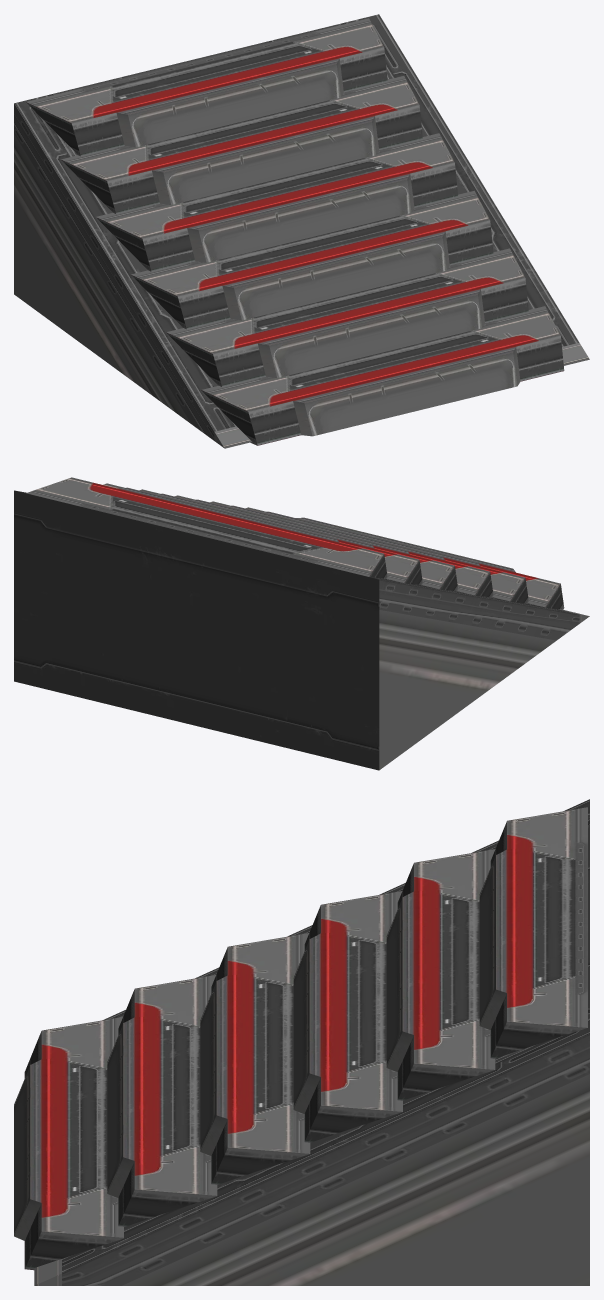
The model's file is Platform_Stairs_2.glb.
3 renders of one model, top to bottom at view 1: azimuth 30°, elevation 25°; view 2: azimuth 150°, elevation 25°; view 3: azimuth 270°, elevation 25°, orthographic. The views are drawn at different scales.
Parts seen in each view (by area): view 1: Platform_Stairs_2; view 2: Platform_Stairs_2; view 3: Platform_Stairs_2.
Boxes of the visible parts, x1,y1,x2,y2 form: Platform_Stairs_2: [14, 14, 589, 448]; Platform_Stairs_2: [14, 477, 589, 770]; Platform_Stairs_2: [14, 799, 589, 1285].
Bounding box in the file's own units: 2 × 1.01 × 2.07.
Materials: 2 (2 with a texture image).
